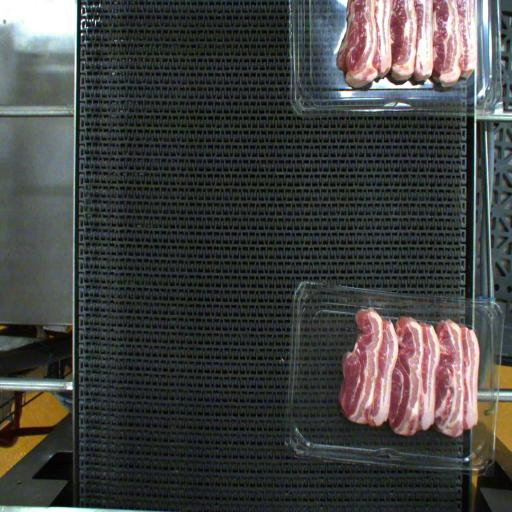packaging-error: (349, 284, 384, 318)
